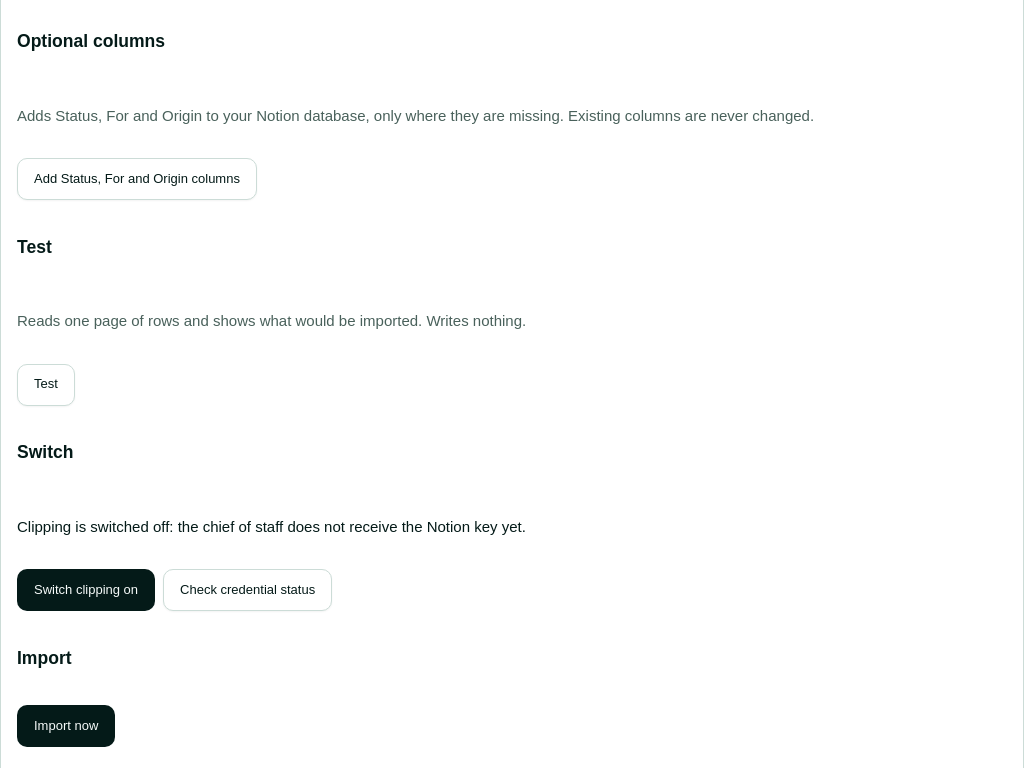
Test: buttons › a refused request shows its own sentence
(page scrolled)
Click the button "Test" at coordinates (46, 385), box [17,364,75,406]
(page scrolled)
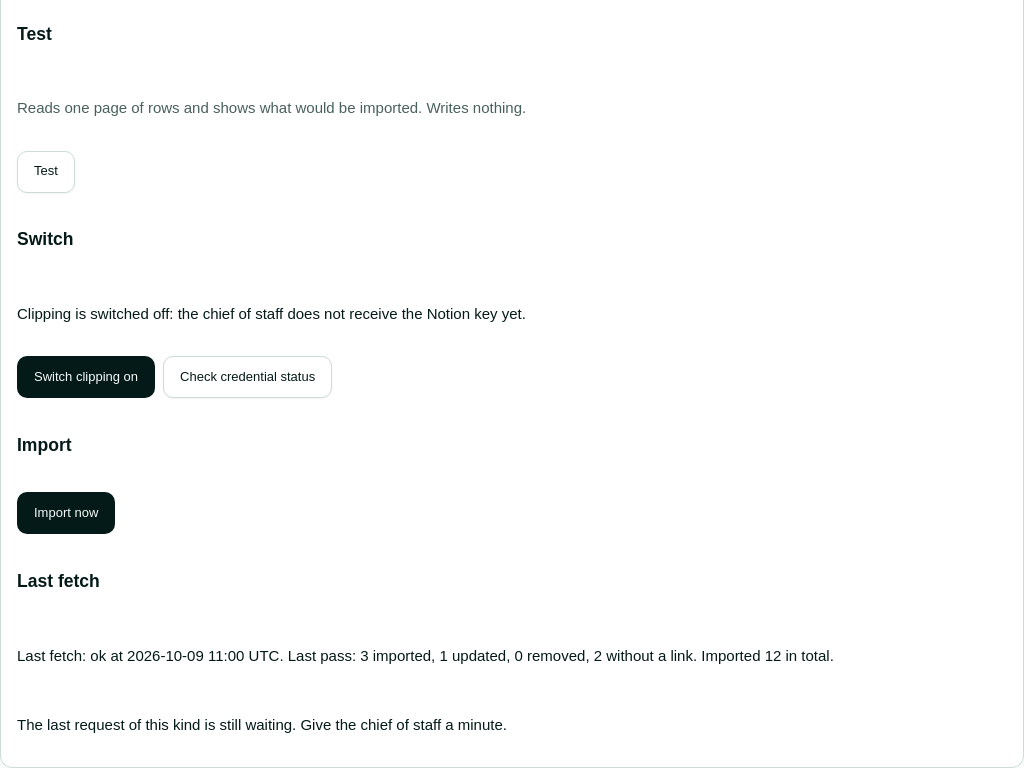
Now the text "still waiting" is shown, box [17,716,507,733]
